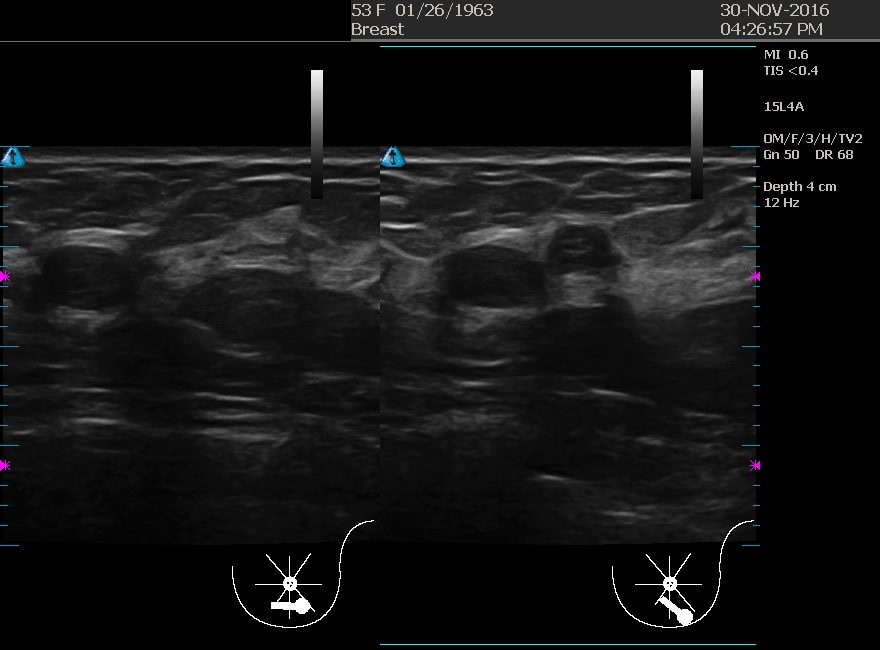BIRADS_3: (25, 202, 217, 394), (393, 182, 585, 374)
